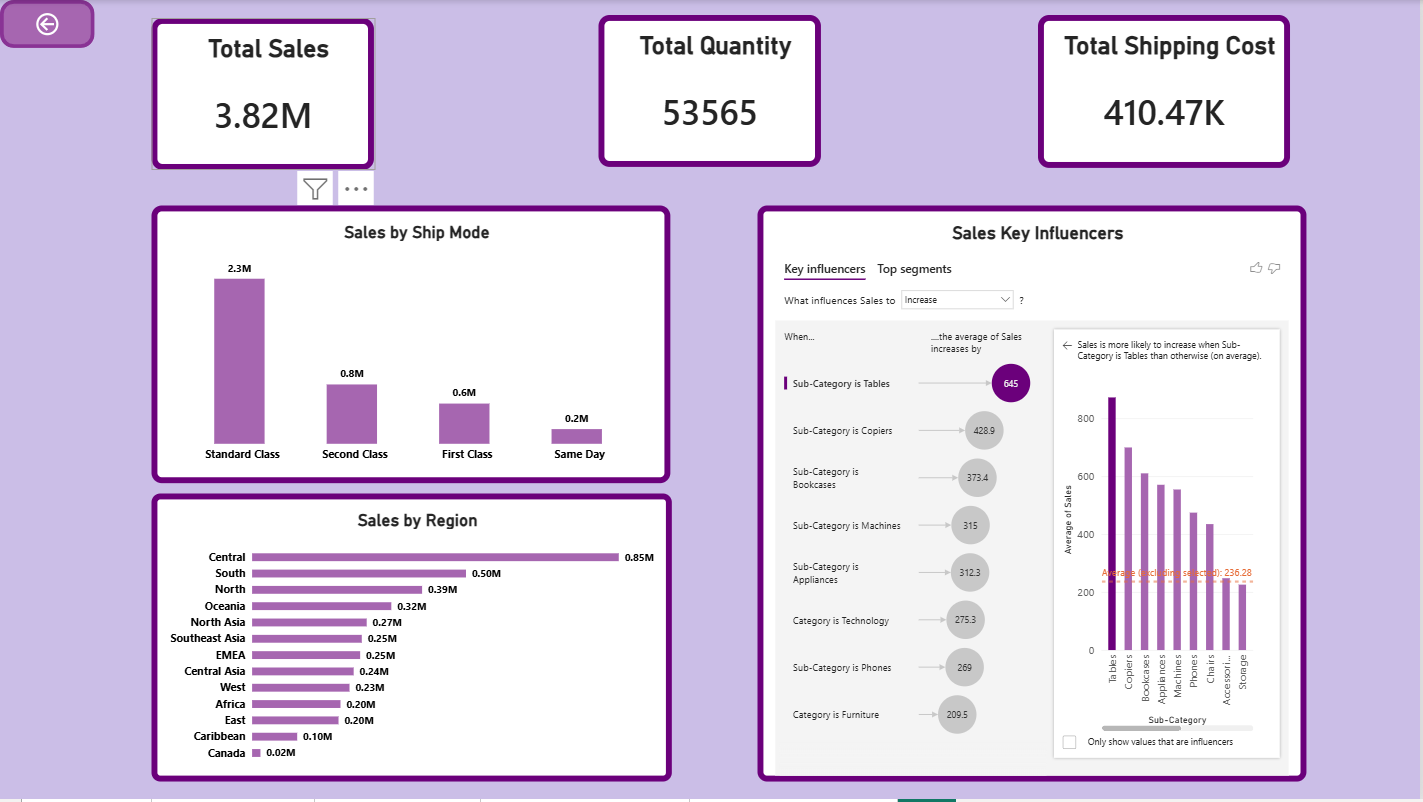

The dashboard page shown, as its layout file describes it:
{"tool":"powerbi","page":{"name":"Drillthrough_Sales","canvas":[1920,1080],"ordinal":3},"visuals":[{"type":"actionButton","box":[0,0,127.7,64.9],"z":0},{"type":"card","title":"Total Sales","fields":{"Values":["Sum(Fact_Orders.Sales)"]},"box":[205.5,23.6,300.8,205.5],"z":1000},{"type":"card","title":"Total Quantity","fields":{"Values":["Sum(Fact_Orders.Quantity)"]},"box":[808,21.3,300.8,205.5],"z":2000},{"type":"card","title":"Total Shipping Cost","fields":{"Values":["Sum(Fact_Orders.Shipping Cost)"]},"box":[1403.1,20.3,340.6,206.8],"z":3000},{"type":"clusteredColumnChart","title":"Sales by Ship Mode","fields":{"Category":["Fact_Orders.Ship Mode"],"Y":["Sum(Fact_Orders.Sales)"]},"box":[204.8,277.8,701.5,375.1],"z":4000},{"type":"clusteredBarChart","title":"Sales by Region","fields":{"Category":["Fact_Orders.Region"],"Y":["Sum(Fact_Orders.Sales)"]},"box":[204.8,667.1,703.6,389.3],"z":5000},{"type":"keyDriversVisual","title":"Sales Key Influencers","fields":{"ExplainBy":["Fact_Orders.Category Hierarchy.Category","Fact_Orders.Category Hierarchy.Sub-Category","Fact_Orders.Category Hierarchy.Product Name"],"Target":["Fact_Orders.Sales"]},"box":[1023.9,277.8,742.1,778.6],"z":6000}]}

Visuals, with their boxes in screenshot pixels (x1, y1, x2, y2), scaled from the page's 1920x1080 canvas onto the 1423x802 screenshot:
actionButton: x1=0 y1=0 x2=95 y2=48
"Total Sales" card: x1=152 y1=18 x2=375 y2=170
"Total Quantity" card: x1=599 y1=16 x2=822 y2=168
"Total Shipping Cost" card: x1=1040 y1=15 x2=1292 y2=169
"Sales by Ship Mode" clusteredColumnChart: x1=152 y1=206 x2=672 y2=485
"Sales by Region" clusteredBarChart: x1=152 y1=495 x2=673 y2=784
"Sales Key Influencers" keyDriversVisual: x1=759 y1=206 x2=1309 y2=784
